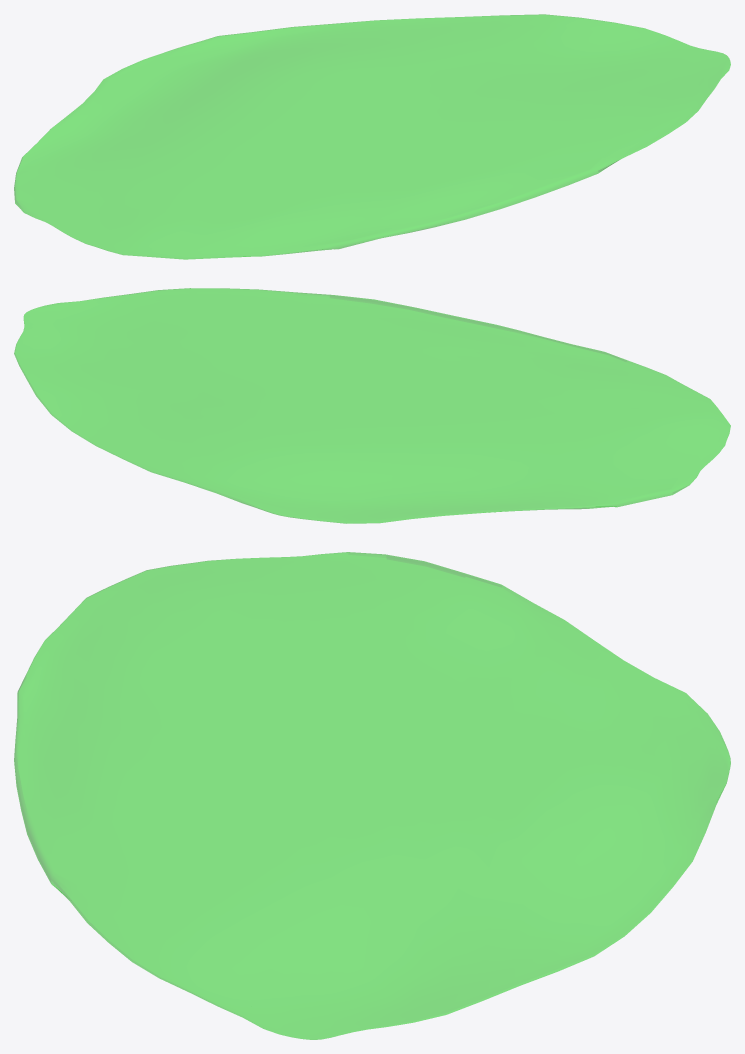
File: SporePuddle.fbx
3 views of the same model, one above another, from view 1: azimuth 30°, elevation 25°; view 2: azimuth 150°, elevation 25°; view 3: azimuth 270°, elevation 25° (orthographic). The views are drawn at different scales.
Parts seen in each view (by area): view 1: Plane; view 2: Plane; view 3: Plane.
Part boxes in pixels (x1,y1,x2,y2): Plane: (14, 14, 730, 259); Plane: (14, 288, 730, 523); Plane: (14, 552, 730, 1039).
Size of the model in its own units: 356 by 10.03 by 223.
